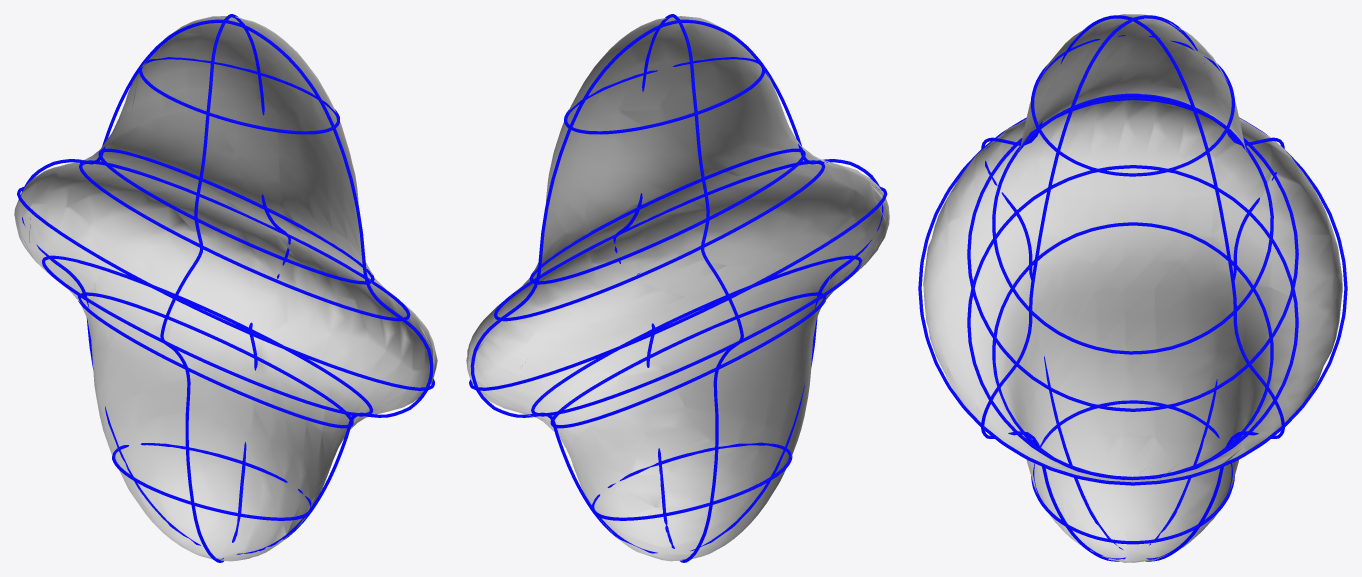
The model's file is flowrep_ellipsetorus_sketch_proxy.glb.
3 views of the same model, side by side, from view 1: azimuth 30°, elevation 25°; view 2: azimuth 150°, elevation 25°; view 3: azimuth 270°, elevation 25° (orthographic).
Visible parts, largest first — view 1: flowrep_ellipsetorus_surface, flowrep_ellipsetorus; view 2: flowrep_ellipsetorus_surface, flowrep_ellipsetorus; view 3: flowrep_ellipsetorus_surface, flowrep_ellipsetorus.
Part boxes in pixels (x1=…): flowrep_ellipsetorus_surface: x1=14, y1=16, x2=437, y2=561; flowrep_ellipsetorus: x1=17, y1=14, x2=434, y2=562; flowrep_ellipsetorus_surface: x1=466, y1=16, x2=889, y2=561; flowrep_ellipsetorus: x1=469, y1=14, x2=887, y2=562; flowrep_ellipsetorus_surface: x1=923, y1=14, x2=1342, y2=562; flowrep_ellipsetorus: x1=918, y1=15, x2=1347, y2=561.
Bounding box in the file's own units: 0.5098 × 0.71 × 0.5123.
